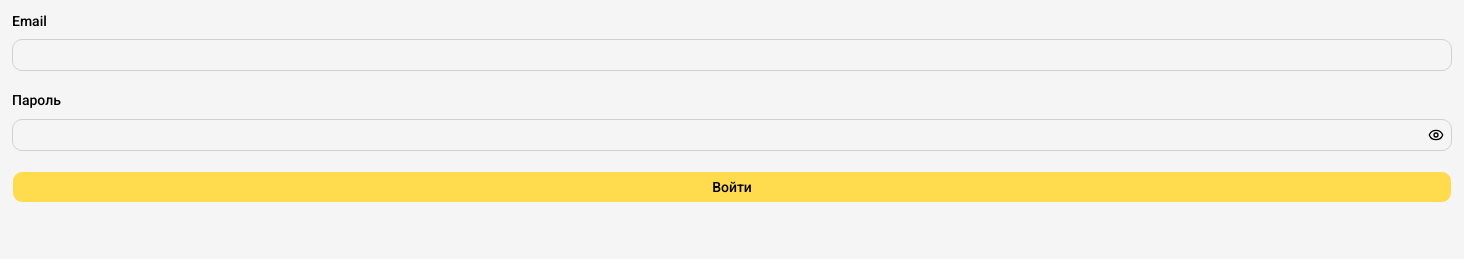
Test: LoginForm › показывает «Неверный email или пароль», если signIn вернул ошибку
In the field labelled "Email": [732, 55] box top-left (12, 39), bottom-right (1452, 71), type "admin@example.com"
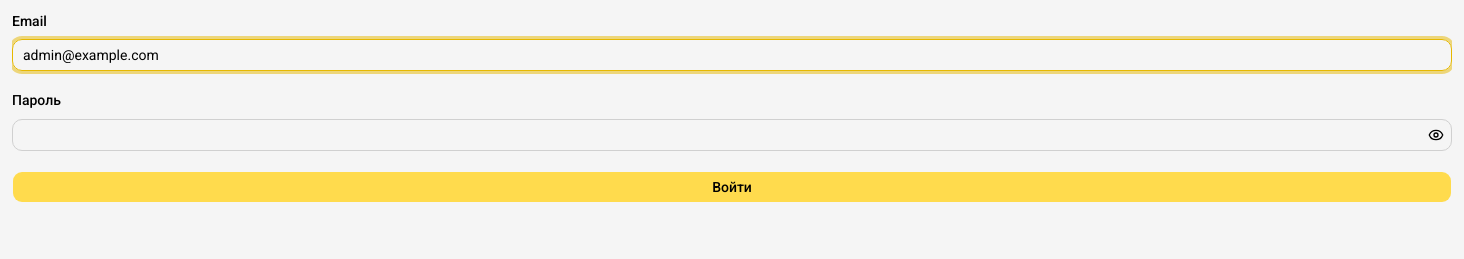
In the password field labelled "Пароль": [732, 134] box top-left (12, 118), bottom-right (1452, 150), type "wrong-password"
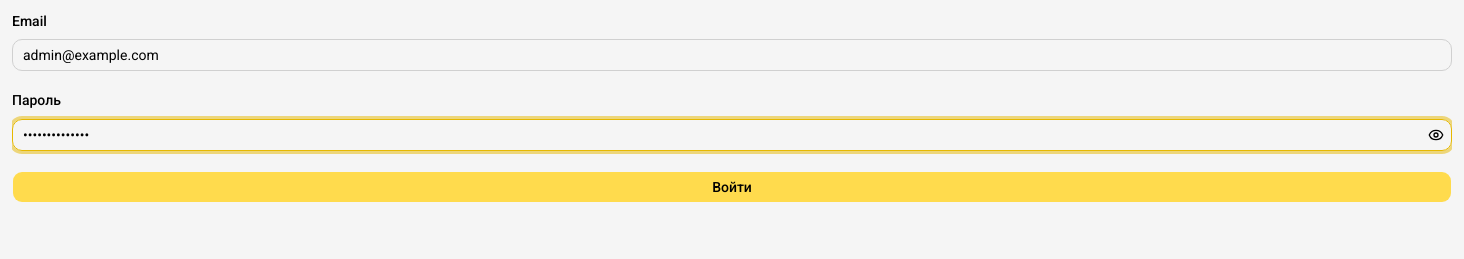
Click the button "Войти": [732, 186] box top-left (12, 170), bottom-right (1452, 202)
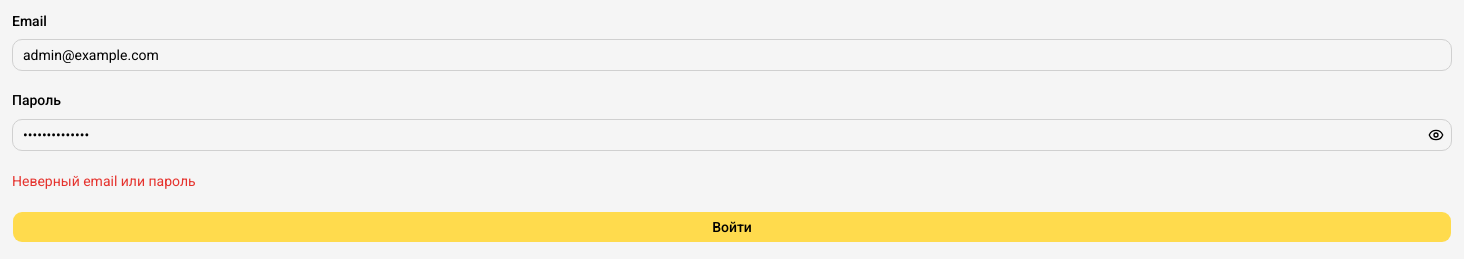
Check: the text "Неверный email или пароль" is shown, box top-left (12, 172), bottom-right (196, 188)
